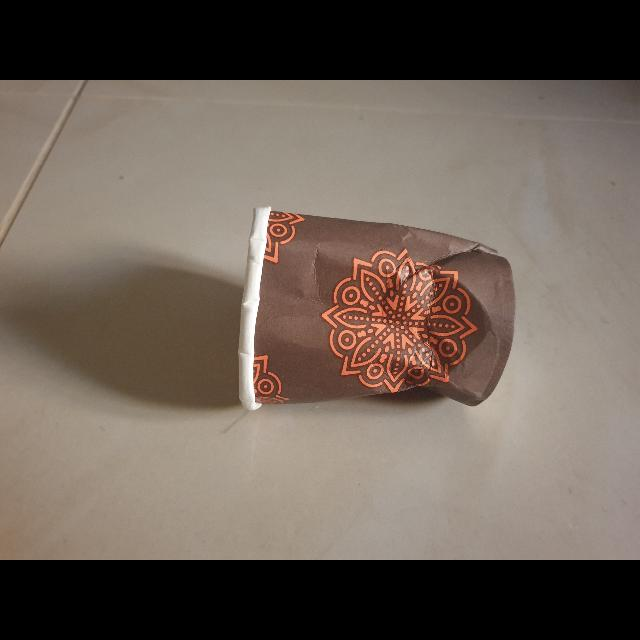trash: (229, 200, 519, 418)
